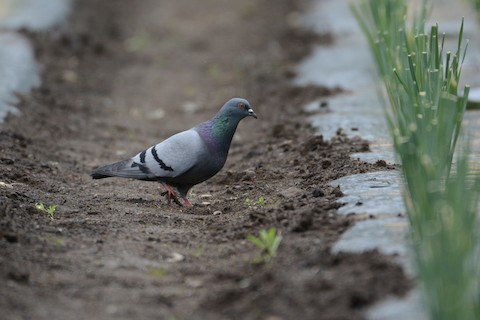pigeon: (87, 96, 262, 203)
